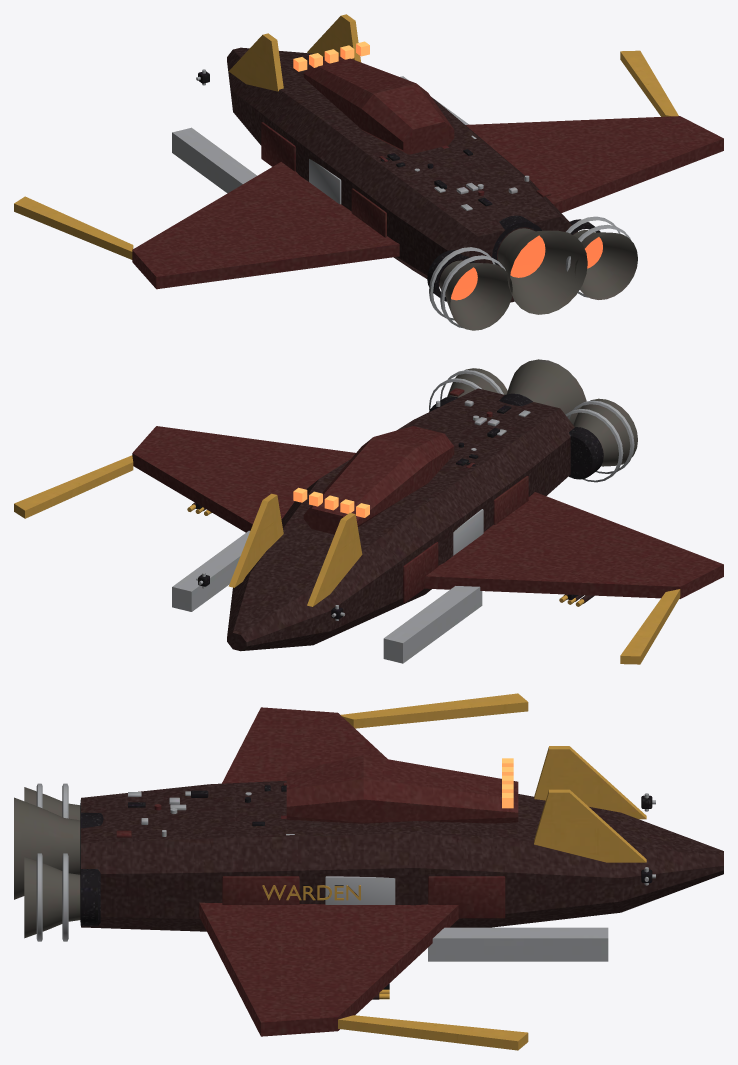
File: game-warden.glb
3 renders of one model, top to bottom at view 1: azimuth 30°, elevation 25°; view 2: azimuth 150°, elevation 25°; view 3: azimuth 270°, elevation 25°, orthographic. The views are drawn at different scales.
Parts seen in each view (by area): view 1: warden; view 2: warden; view 3: warden.
Part boxes in pixels (box(x1,y1,x2,y2)): warden: box(14, 14, 723, 330); warden: box(14, 359, 723, 664); warden: box(14, 693, 723, 1050).
Bounding box in the file's own units: 32 × 6 × 27.6.
4 materials, 2 textured.
